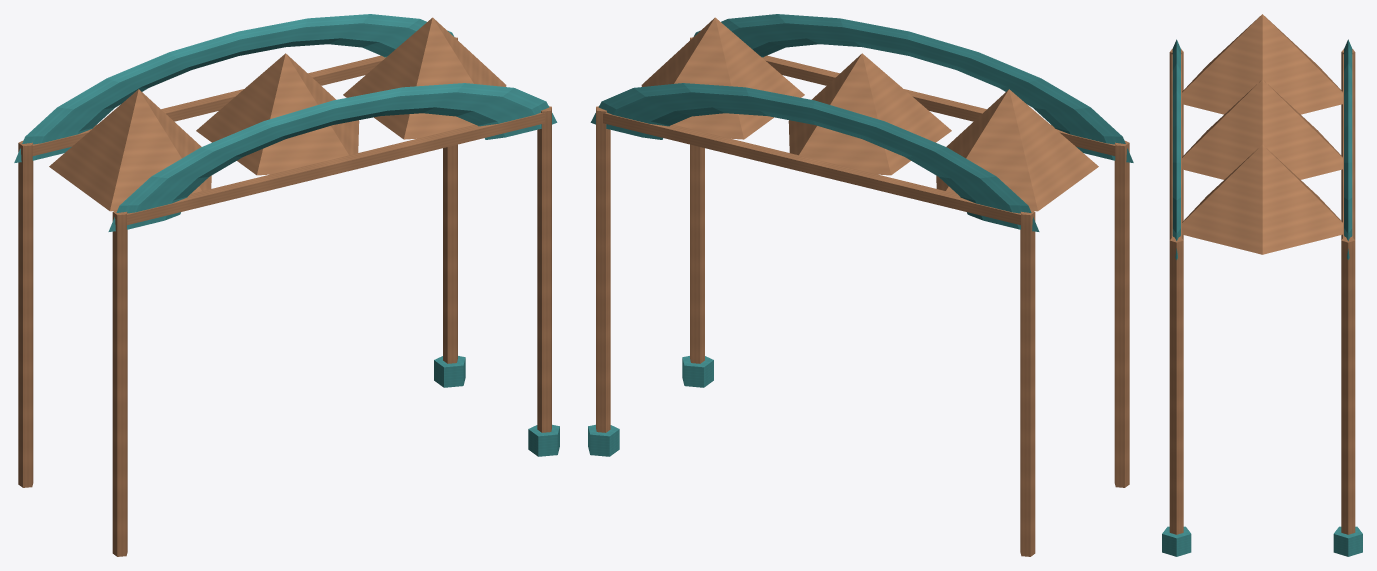
File: atlas100-s091-a08.lod1.glb
The picture shows the model from 3 angles, left to right: view 1: azimuth 30°, elevation 25°; view 2: azimuth 150°, elevation 25°; view 3: azimuth 270°, elevation 25°; orthographic projection. The views are drawn at different scales.
Parts seen in each view (by area): view 1: atlas100-s091-a08:part-011, atlas100-s091-a08:part-010, atlas100-s091-a08:part-012, atlas100-s091-a08:part-013, atlas100-s091-a08:part-014, atlas100-s091-a08:part-009, atlas100-s091-a08:part-002, atlas100-s091-a08:part-000, atlas100-s091-a08:part-006, atlas100-s091-a08:part-004, atlas100-s091-a08:part-008, atlas100-s091-a08:part-007 (+1 smaller); view 2: atlas100-s091-a08:part-010, atlas100-s091-a08:part-011, atlas100-s091-a08:part-012, atlas100-s091-a08:part-013, atlas100-s091-a08:part-014, atlas100-s091-a08:part-008, atlas100-s091-a08:part-000, atlas100-s091-a08:part-002, atlas100-s091-a08:part-004, atlas100-s091-a08:part-006, atlas100-s091-a08:part-009, atlas100-s091-a08:part-005 (+1 smaller); view 3: atlas100-s091-a08:part-014, atlas100-s091-a08:part-013, atlas100-s091-a08:part-012, atlas100-s091-a08:part-004, atlas100-s091-a08:part-006, atlas100-s091-a08:part-010, atlas100-s091-a08:part-011, atlas100-s091-a08:part-000, atlas100-s091-a08:part-002, atlas100-s091-a08:part-005, atlas100-s091-a08:part-007, atlas100-s091-a08:part-008 (+1 smaller).
Part boxes in pixels (x1=…): atlas100-s091-a08:part-011: x1=108, y1=83, x2=557, y2=231; atlas100-s091-a08:part-010: x1=14, y1=14, x2=454, y2=162; atlas100-s091-a08:part-012: x1=49, y1=89, x2=211, y2=211; atlas100-s091-a08:part-013: x1=196, y1=53, x2=359, y2=175; atlas100-s091-a08:part-014: x1=343, y1=17, x2=506, y2=139; atlas100-s091-a08:part-009: x1=127, y1=112, x2=544, y2=225; atlas100-s091-a08:part-002: x1=112, y1=209, x2=127, y2=556; atlas100-s091-a08:part-000: x1=18, y1=140, x2=33, y2=487; atlas100-s091-a08:part-006: x1=537, y1=106, x2=551, y2=432; atlas100-s091-a08:part-004: x1=443, y1=37, x2=457, y2=363; atlas100-s091-a08:part-008: x1=32, y1=55, x2=385, y2=155; atlas100-s091-a08:part-007: x1=528, y1=424, x2=559, y2=456; atlas100-s091-a08:part-010: x1=590, y1=83, x2=1039, y2=231; atlas100-s091-a08:part-011: x1=693, y1=14, x2=1133, y2=162; atlas100-s091-a08:part-012: x1=936, y1=89, x2=1098, y2=211; atlas100-s091-a08:part-013: x1=788, y1=53, x2=951, y2=175; atlas100-s091-a08:part-014: x1=641, y1=17, x2=804, y2=139; atlas100-s091-a08:part-008: x1=603, y1=112, x2=1020, y2=225; atlas100-s091-a08:part-000: x1=1020, y1=209, x2=1035, y2=556; atlas100-s091-a08:part-002: x1=1114, y1=140, x2=1129, y2=487; atlas100-s091-a08:part-004: x1=596, y1=106, x2=610, y2=432; atlas100-s091-a08:part-006: x1=690, y1=37, x2=704, y2=363; atlas100-s091-a08:part-009: x1=762, y1=55, x2=1115, y2=155; atlas100-s091-a08:part-005: x1=588, y1=424, x2=619, y2=456; atlas100-s091-a08:part-014: x1=1182, y1=144, x2=1342, y2=254; atlas100-s091-a08:part-013: x1=1182, y1=79, x2=1342, y2=179; atlas100-s091-a08:part-012: x1=1182, y1=14, x2=1342, y2=114; atlas100-s091-a08:part-004: x1=1341, y1=237, x2=1355, y2=534; atlas100-s091-a08:part-006: x1=1169, y1=237, x2=1183, y2=534; atlas100-s091-a08:part-010: x1=1344, y1=39, x2=1352, y2=259; atlas100-s091-a08:part-011: x1=1172, y1=39, x2=1180, y2=259; atlas100-s091-a08:part-000: x1=1341, y1=49, x2=1355, y2=239; atlas100-s091-a08:part-002: x1=1169, y1=49, x2=1183, y2=239; atlas100-s091-a08:part-005: x1=1333, y1=526, x2=1362, y2=556; atlas100-s091-a08:part-007: x1=1162, y1=526, x2=1191, y2=556; atlas100-s091-a08:part-008: x1=1343, y1=54, x2=1353, y2=237.
Size of the model in its own units: 5.53 by 4.85 by 2.34.
Materials: 2 (2 with a texture image).
